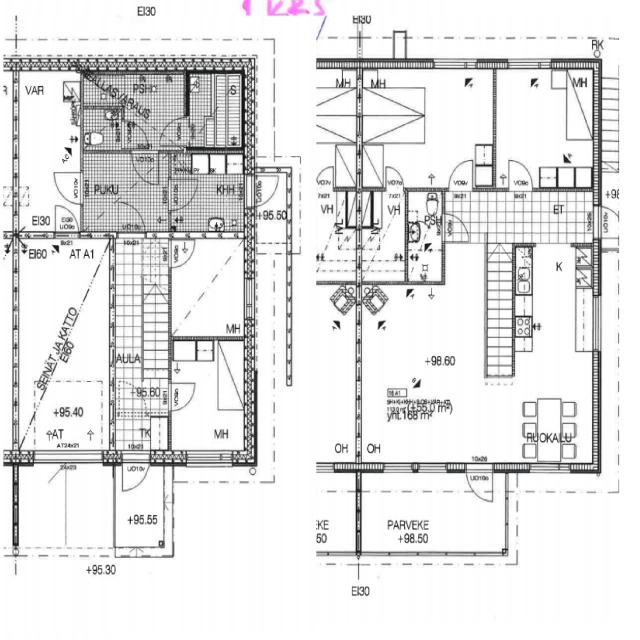door: (122, 451, 148, 498), (244, 175, 282, 207), (593, 207, 628, 238), (466, 464, 492, 505), (118, 200, 145, 238), (54, 173, 84, 204), (132, 150, 158, 185), (168, 180, 197, 211), (160, 118, 189, 146), (55, 204, 78, 238), (508, 160, 532, 192), (168, 384, 195, 412), (168, 240, 195, 268), (449, 160, 472, 192), (442, 214, 468, 242), (122, 122, 147, 148), (386, 167, 404, 192)
